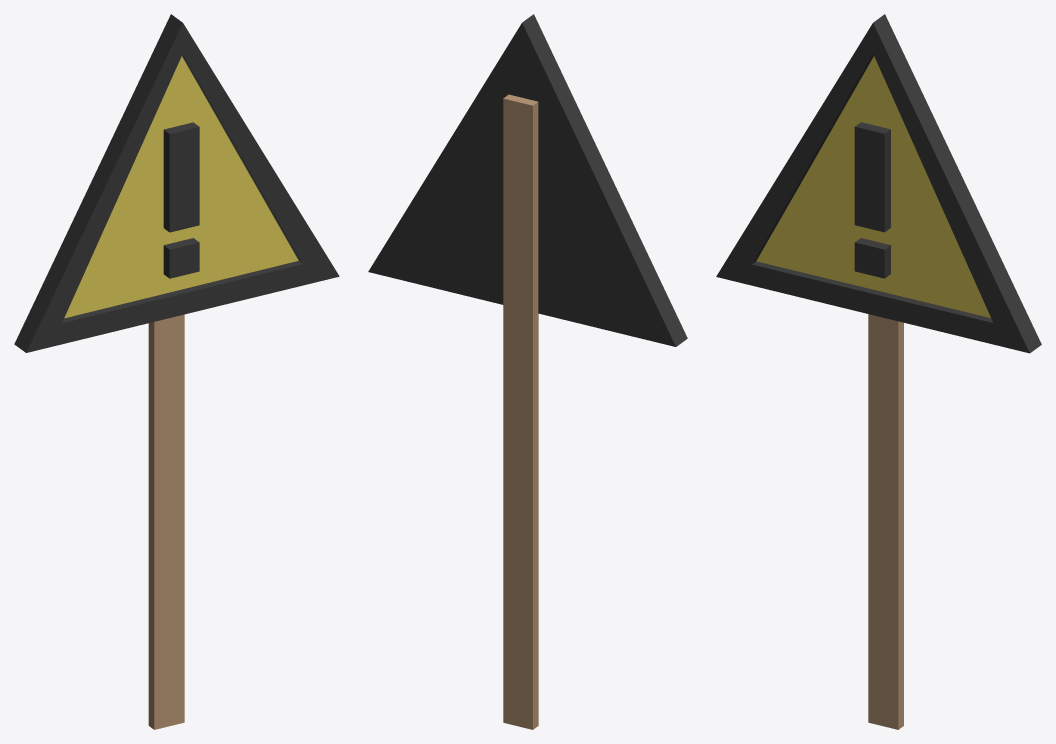
File: Park_WARNING_2.fbx
3 views of the same model, side by side, from view 1: azimuth 30°, elevation 25°; view 2: azimuth 150°, elevation 25°; view 3: azimuth 330°, elevation 25° (orthographic).
Parts seen in each view (by area): view 1: polySurface725; view 2: polySurface725; view 3: polySurface725.
Part boxes in pixels (x1,y1,x2,y2): polySurface725: [14, 14, 339, 729]; polySurface725: [368, 14, 687, 729]; polySurface725: [716, 14, 1041, 729].
Bounding box in the file's own units: 5.46 × 11.84 × 0.6066.
